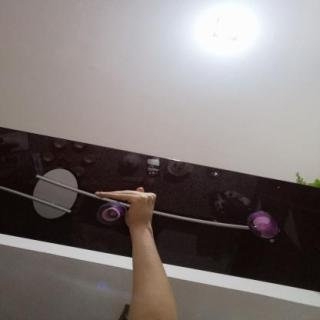KHAA: (83, 180, 166, 238)
